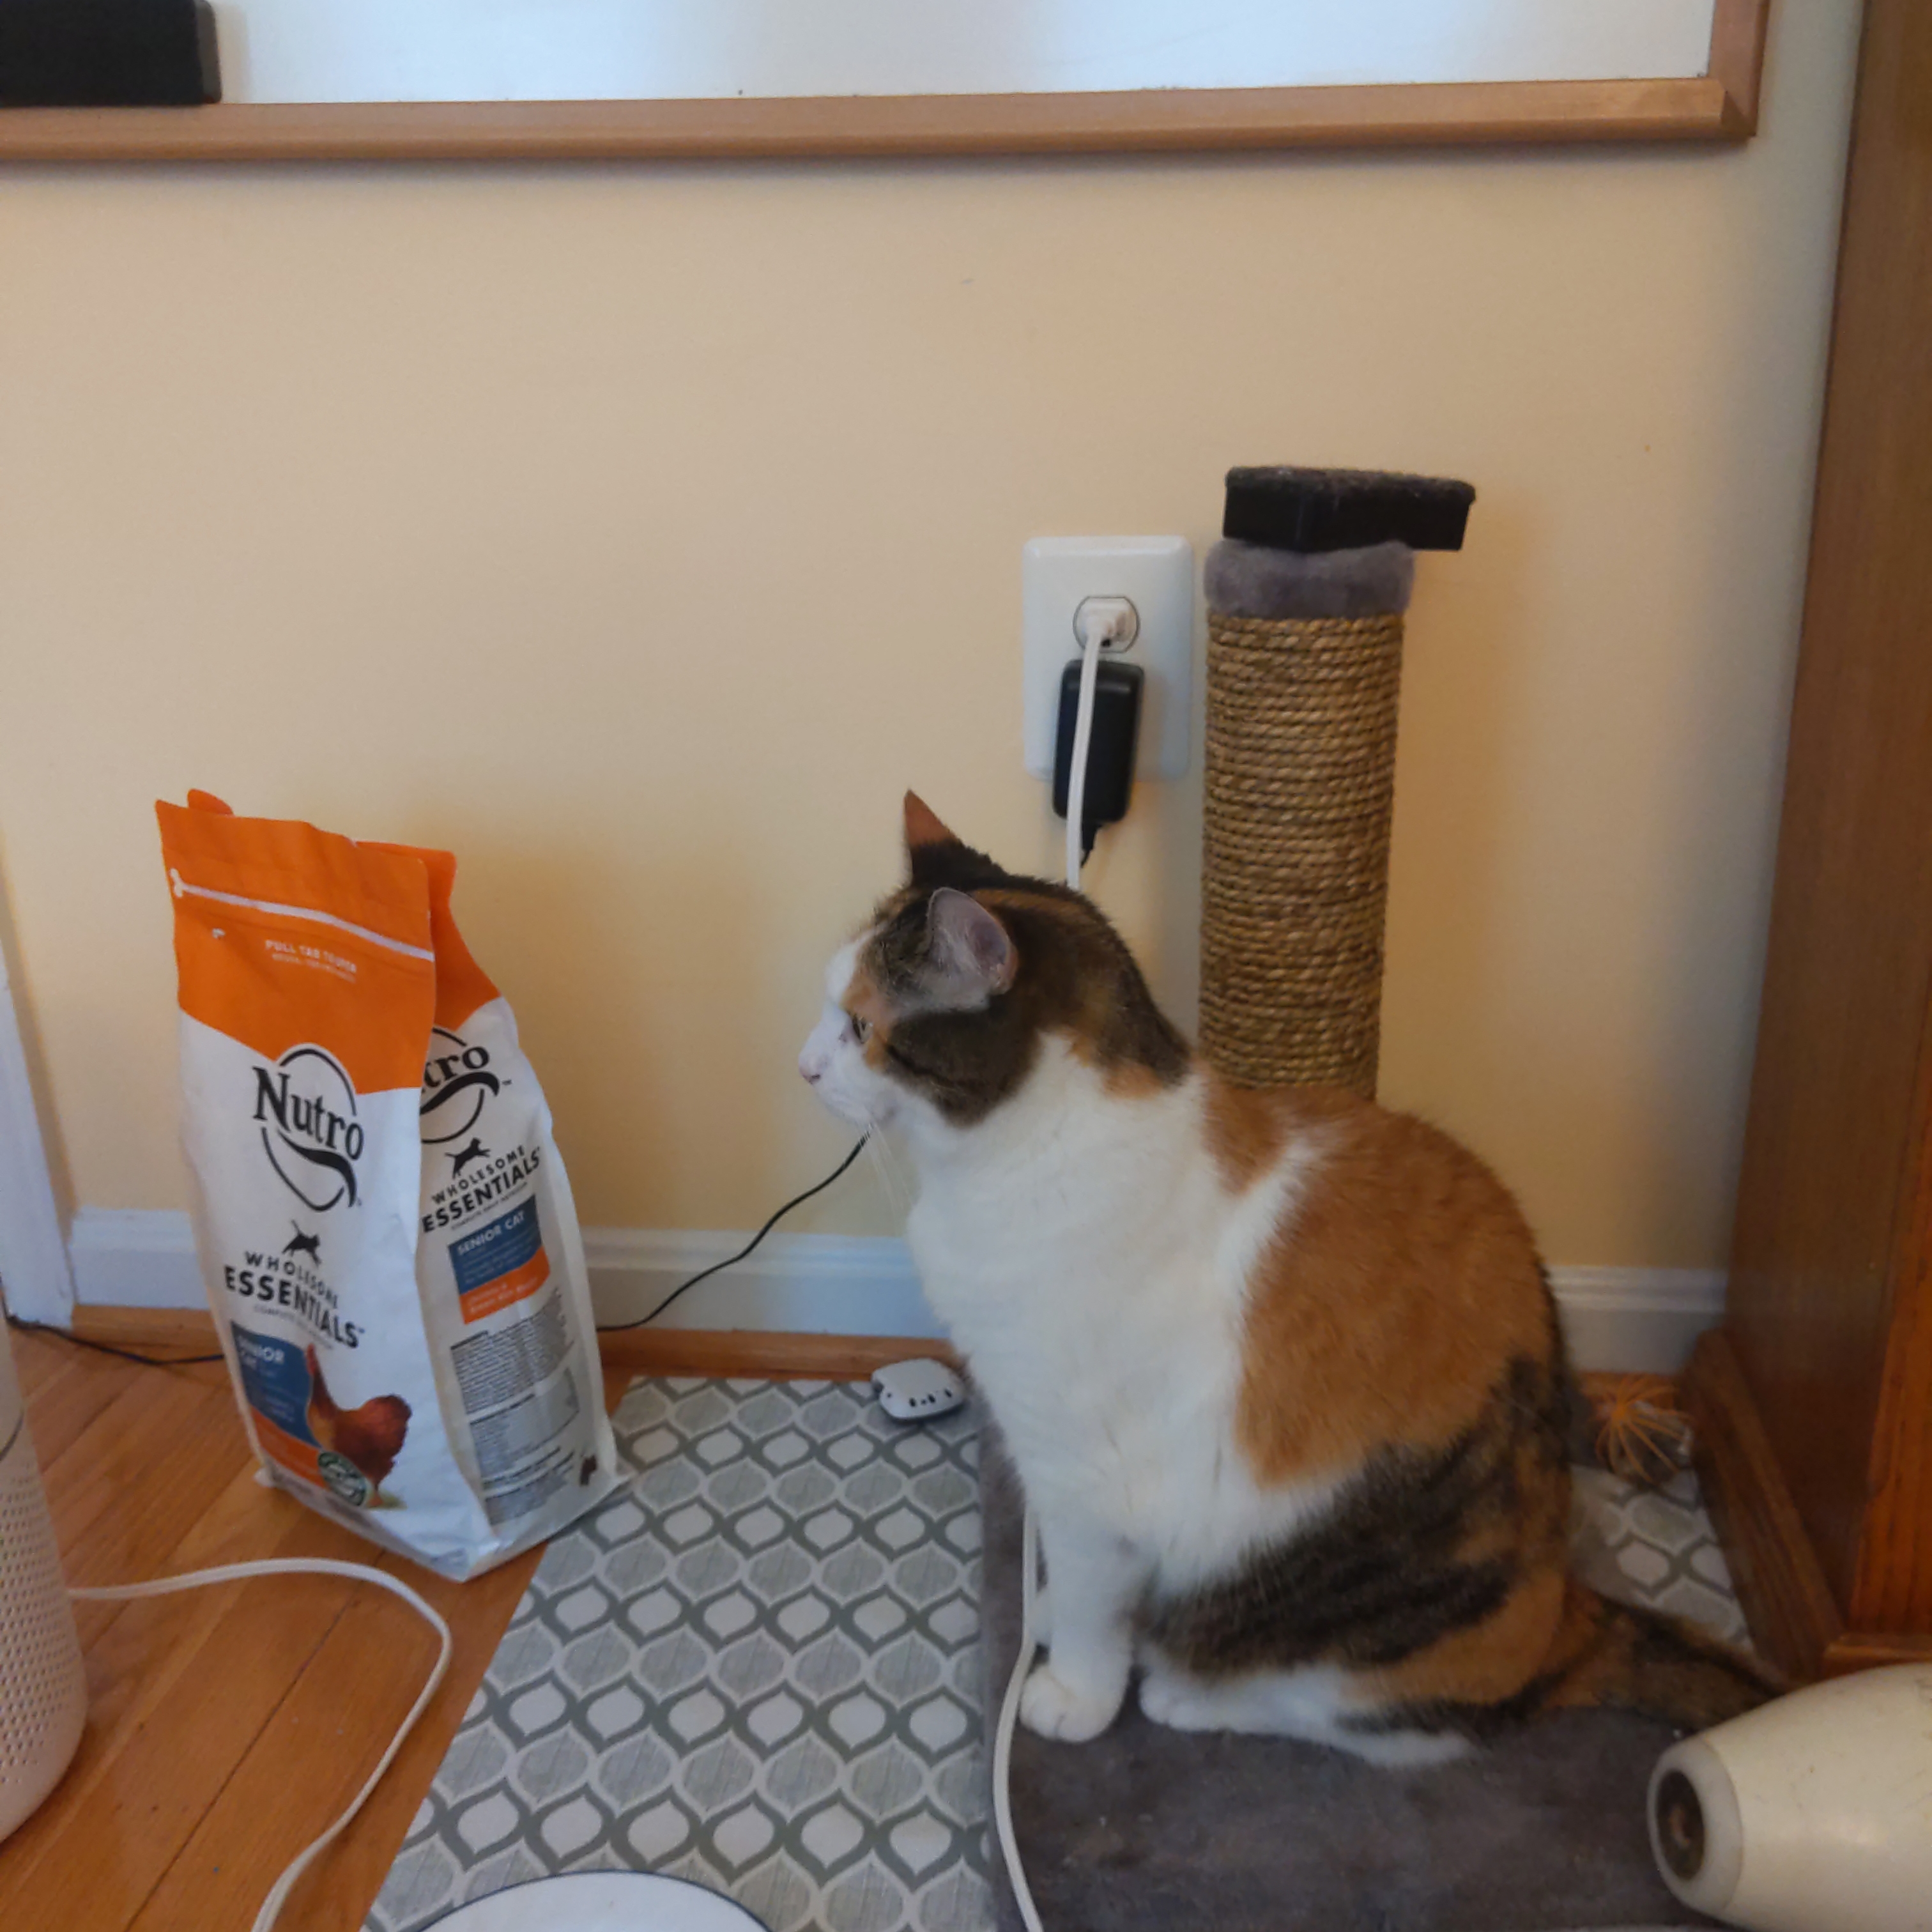Calico: (793, 791, 1792, 1769)
